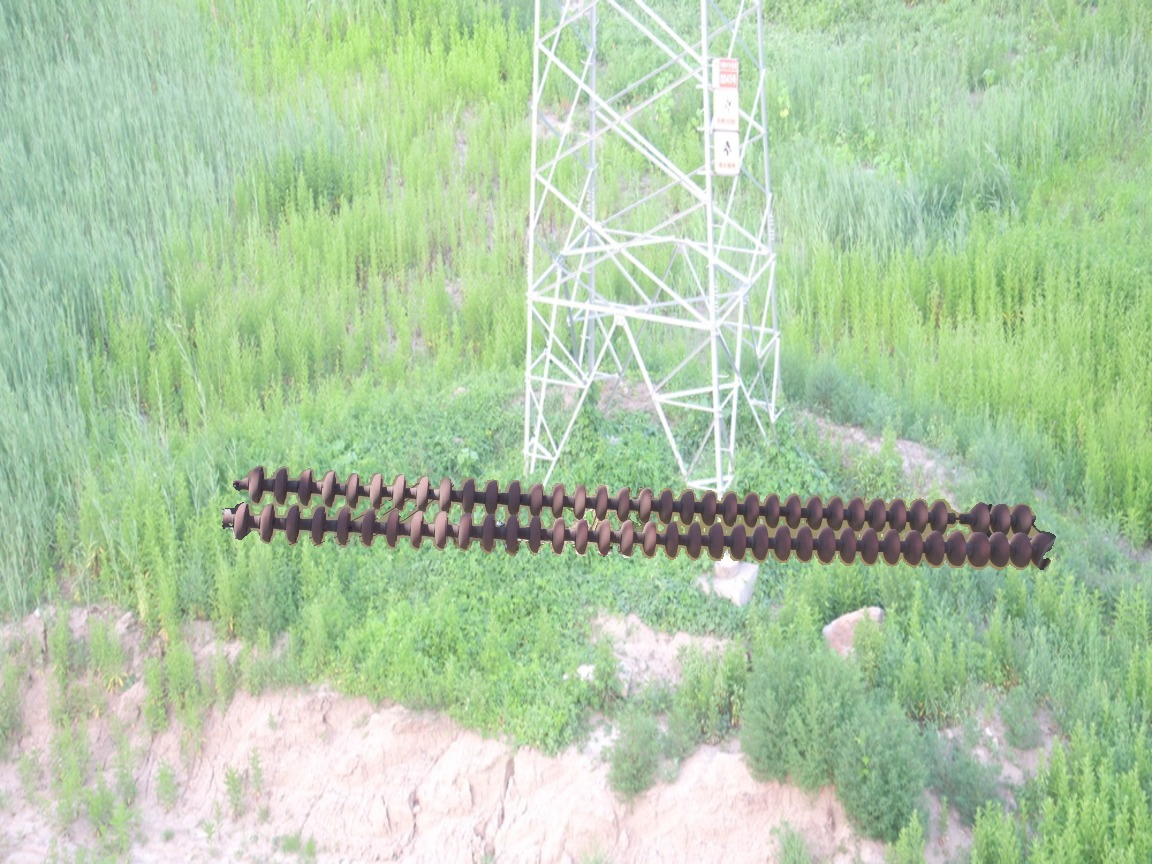defect: (927, 496, 994, 535)
